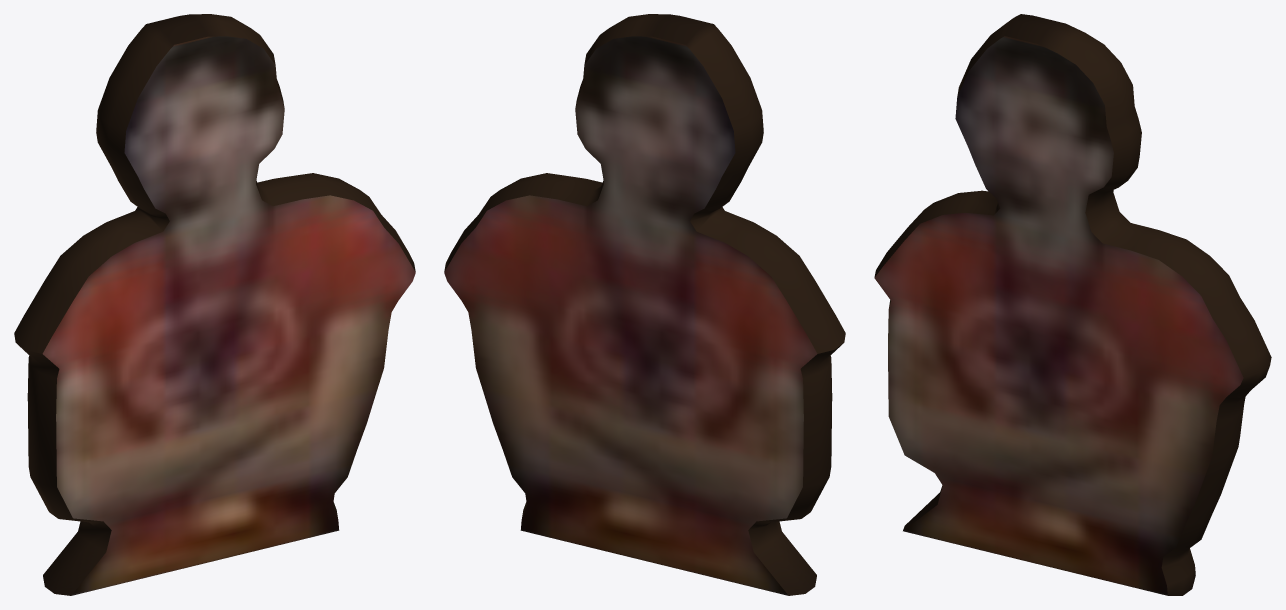
Rendered from tfl-lowreskui-lod0.glb.
3 renders of one model, left to right at view 1: azimuth 30°, elevation 25°; view 2: azimuth 150°, elevation 25°; view 3: azimuth 330°, elevation 25°, orthographic.
Visible parts, largest first — view 1: LowResKui.001; view 2: LowResKui.001; view 3: LowResKui.001.
Part boxes in pixels (box(x1,y1,x2,y2)): LowResKui.001: box(14, 14, 415, 595); LowResKui.001: box(444, 14, 845, 595); LowResKui.001: box(874, 14, 1271, 595).
Bounding box in the file's own units: 0.9512 × 1.26 × 0.12.
Materials: 1 (1 with a texture image).
